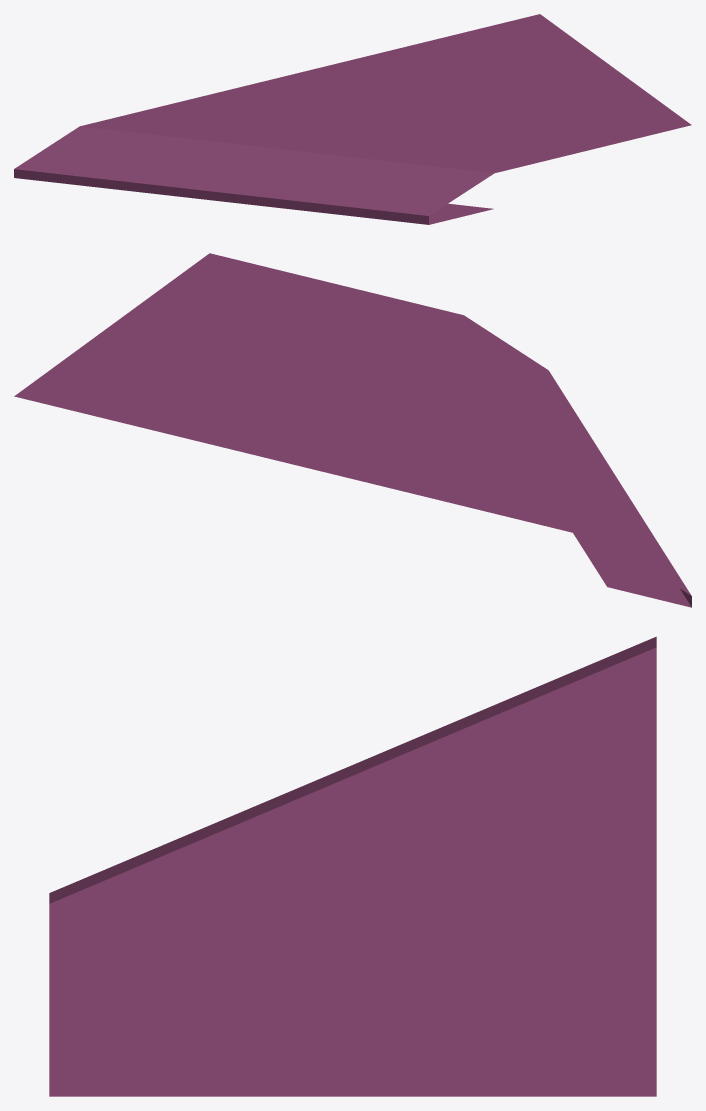
The model's file is Roof_45_Extension_Mirrored.fbx.
The picture shows the model from 3 angles, top to bottom: view 1: azimuth 30°, elevation 25°; view 2: azimuth 150°, elevation 25°; view 3: azimuth 270°, elevation 25°; orthographic projection. The views are drawn at different scales.
Visible parts, largest first — view 1: Roof_45_Extension_Mirrored; view 2: Roof_45_Extension_Mirrored; view 3: Roof_45_Extension_Mirrored.
Part boxes in pixels (x1,y1,x2,y2): Roof_45_Extension_Mirrored: (14, 14, 691, 224); Roof_45_Extension_Mirrored: (14, 253, 691, 607); Roof_45_Extension_Mirrored: (49, 636, 656, 1096).
Size of the model in its own units: 8 by 0.5174 by 4.
